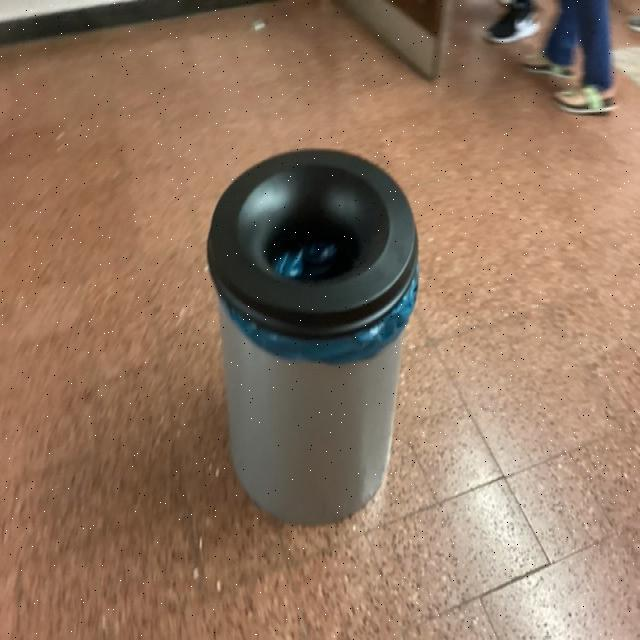garbage container: (196, 132, 429, 544)
